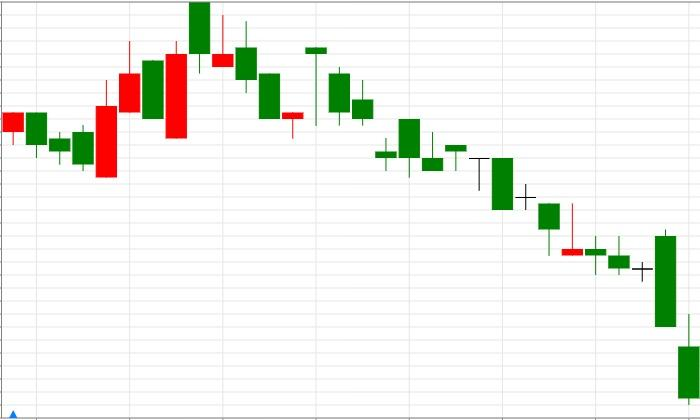bullish_engulfing_rise: (2, 79, 118, 178)
